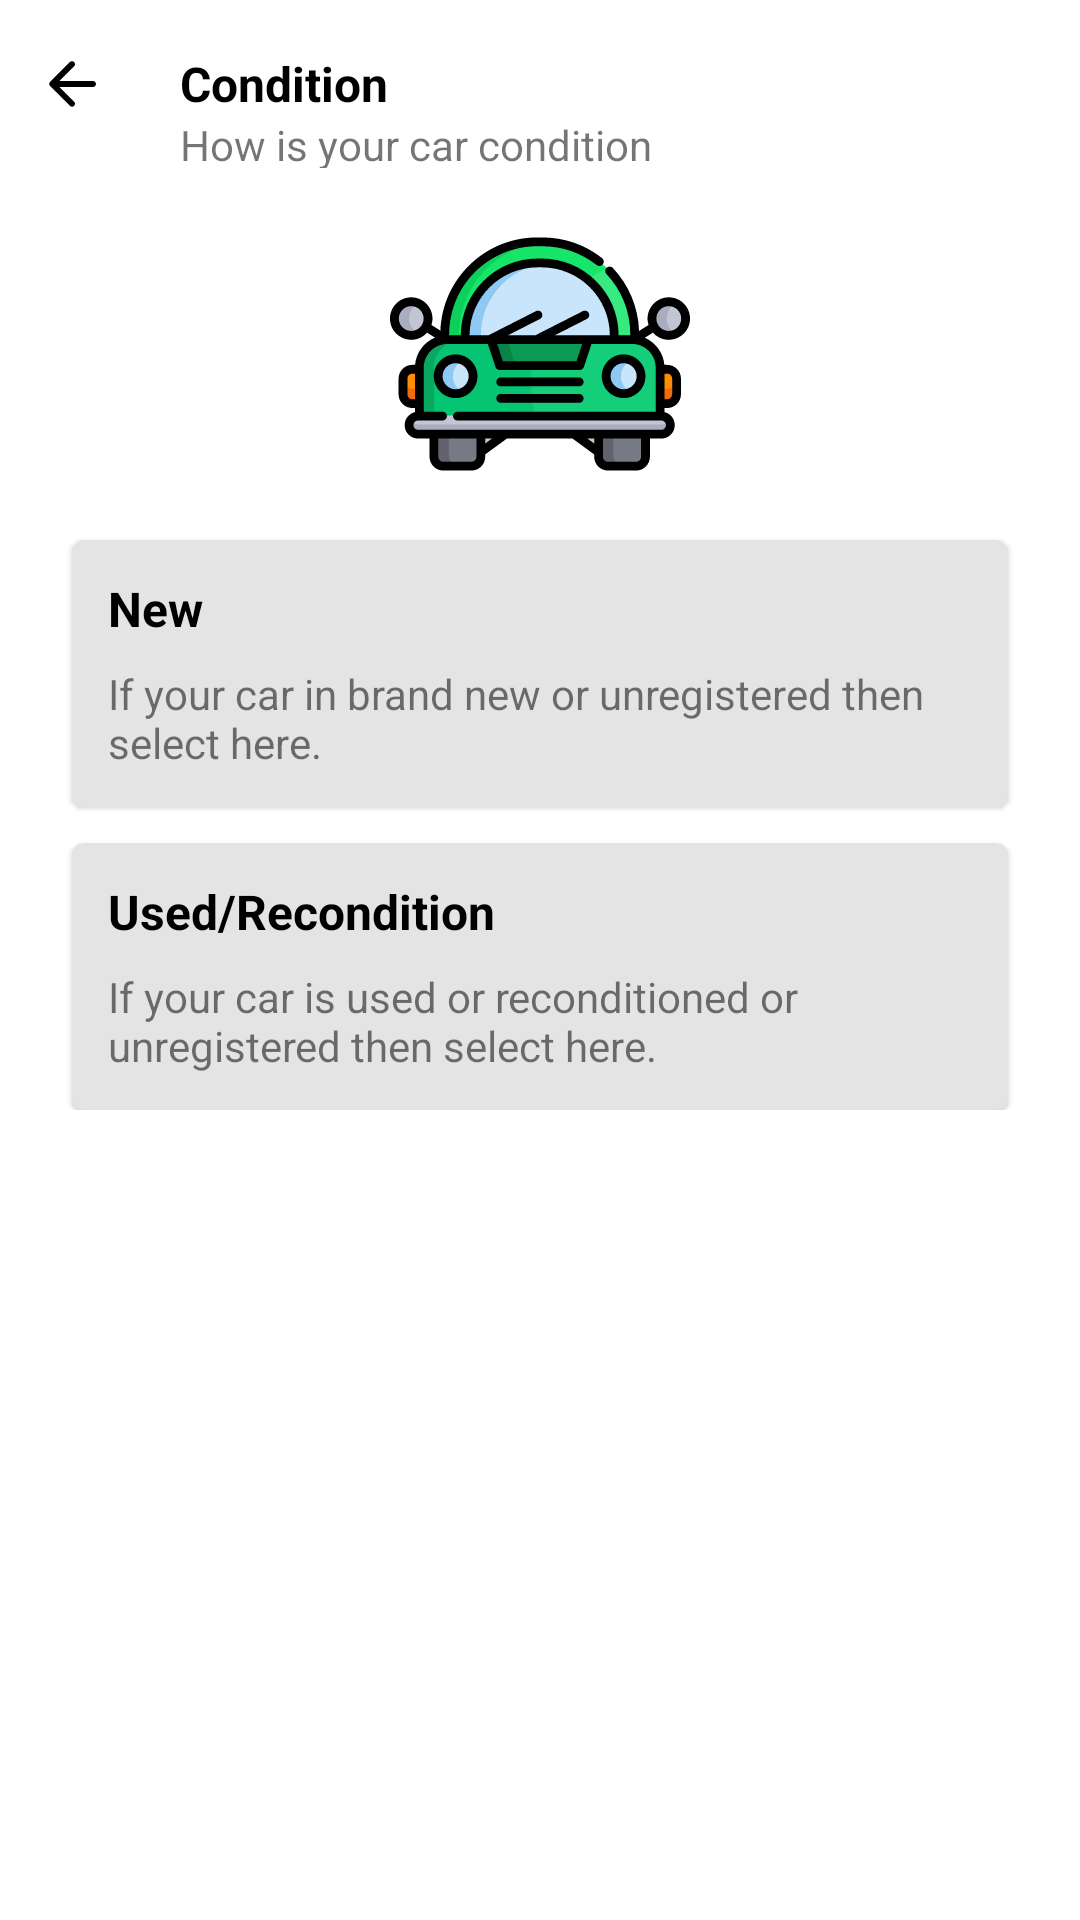

Screen size 1080 × 1920. Icon name, then its box in pixels as (x1, y1, x2, y2):
arrow back: (49, 61, 96, 107)
